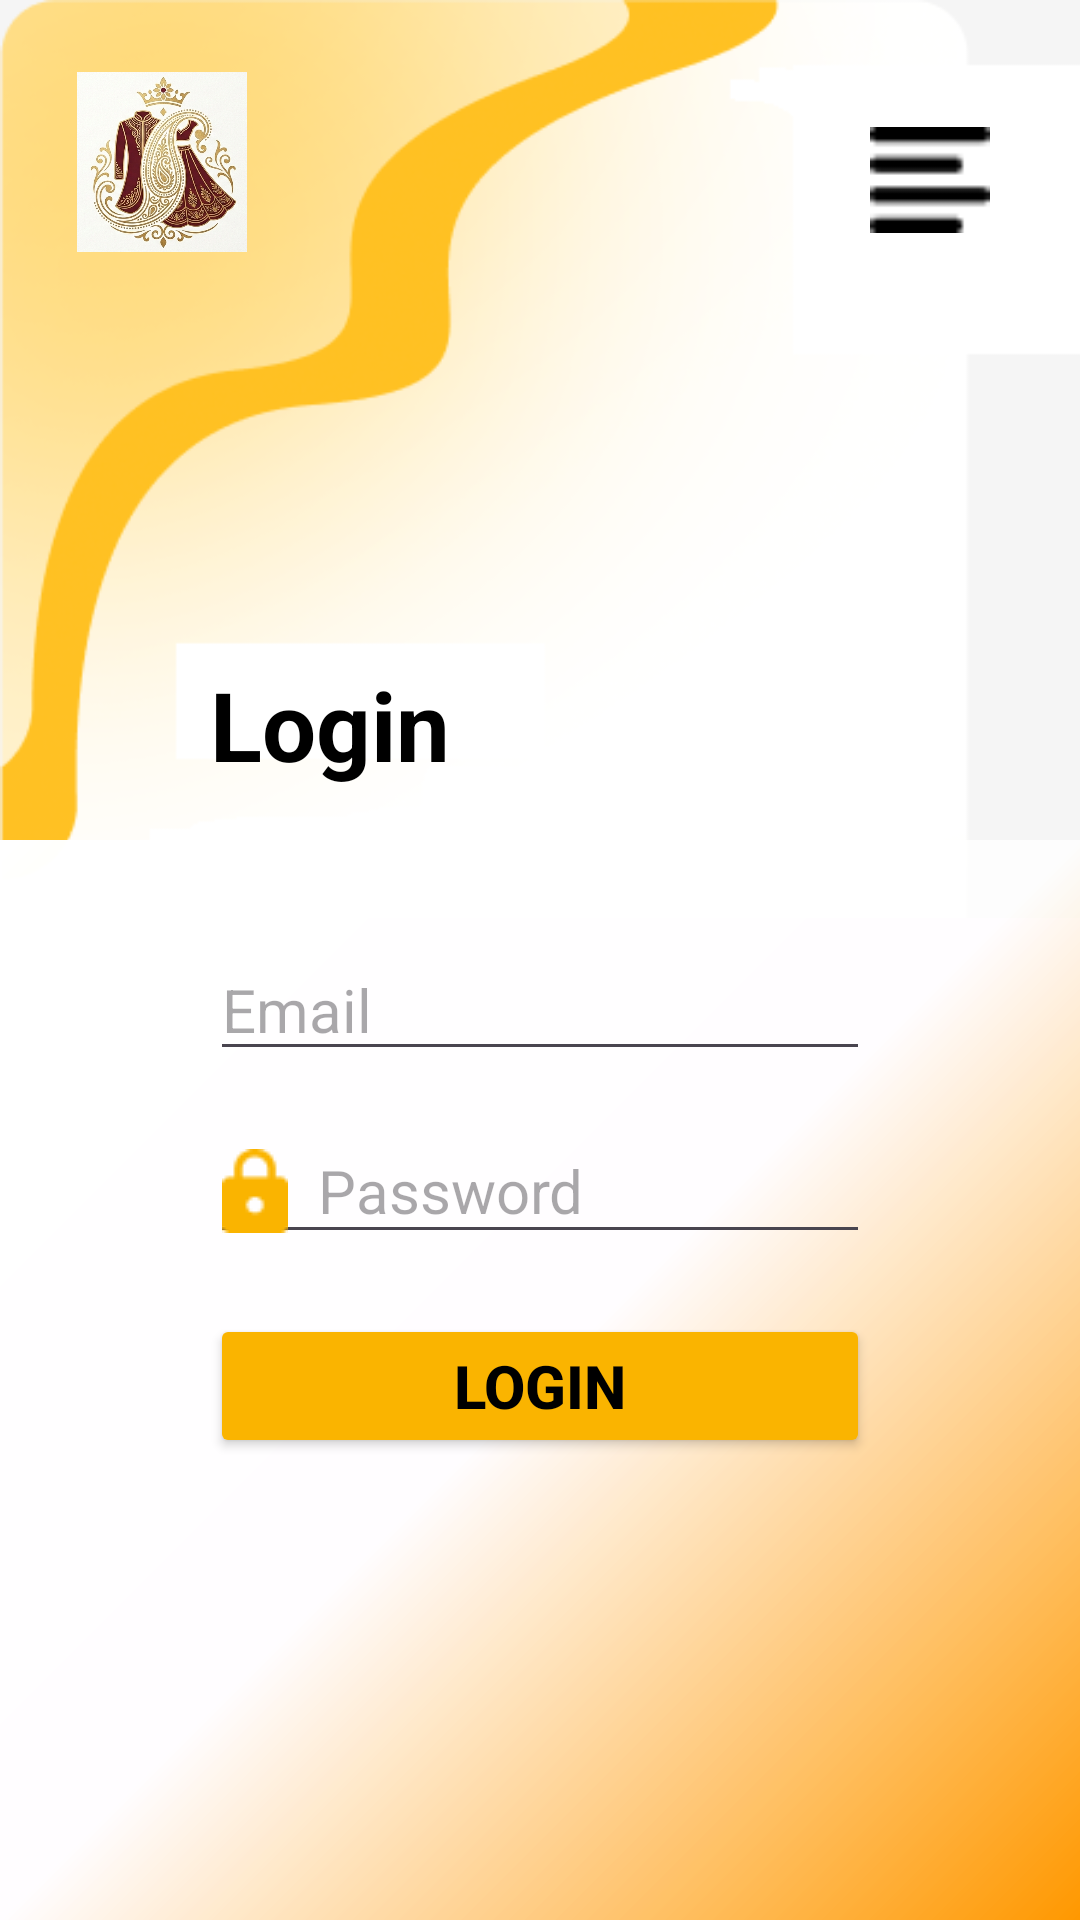

Named icons in this screenshot (1080px x 1920px) and their bounding boxes, (x1, y1, x2, y2):
menu: (870, 127, 990, 233)
